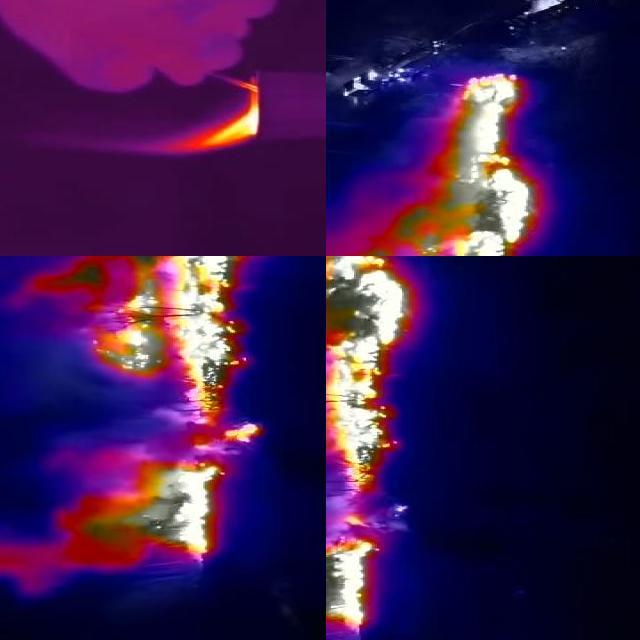fire: (43, 257, 273, 415), (363, 73, 540, 257), (52, 460, 230, 576), (327, 257, 414, 494), (327, 510, 393, 640), (150, 89, 264, 160), (136, 413, 272, 451)
